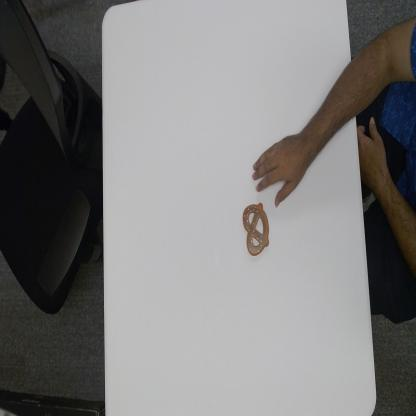Arm: (306, 47, 362, 156)
Hand: (251, 132, 313, 208)
Pretzel: (242, 199, 271, 259)
